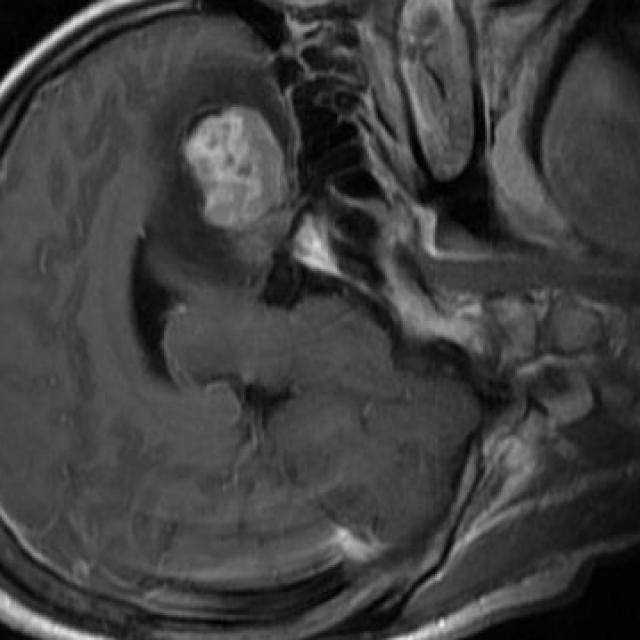meningioma: (185, 107, 287, 248)
